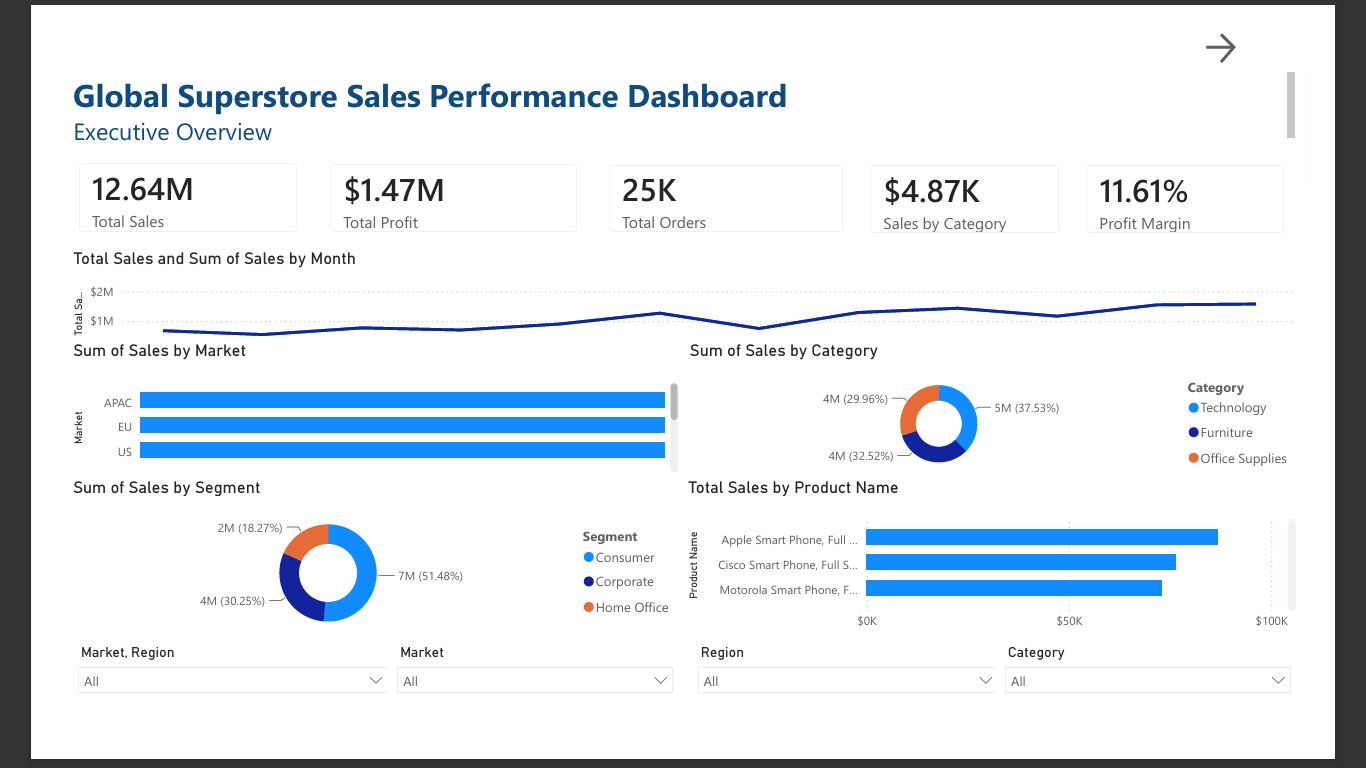

What the dashboard file says about the page in this screenshot:
{"tool":"powerbi","page":{"name":"Executive Dashboard","canvas":[1280,720],"ordinal":0},"visuals":[{"type":"textbox","box":[13.8,39.9,1255.2,81.2],"z":0},{"type":"cardVisual","fields":{"Data":["superstore.Total Sales"]},"box":[8.3,119.7,255.6,104.3],"z":1000},{"type":"slicer","fields":{"Values":["superstore.Market","superstore.Region"]},"box":[13.8,622.1,335.8,97.6],"z":1000,"group":"g3"},{"type":"lineChart","fields":{"Category":["Calendar.Month"],"Y":["superstore.Total Sales","Sum(superstore.Sales)"]},"box":[14.3,224.3,1254.3,94.3],"z":2000},{"type":"hundredPercentStackedBarChart","fields":{"Y":["Sum(superstore.Sales)"],"Category":["superstore.Market"]},"box":[13.8,317.9,626.2,139],"z":2000,"group":"g1"},{"type":"cardVisual","fields":{"Data":["superstore.Total Profit"]},"box":[263.9,121.5,285.5,102.9],"z":3000},{"type":"donutChart","fields":{"Y":["Sum(superstore.Sales)"],"Category":["superstore.Category"]},"box":[641.4,317.9,627.6,139],"z":3000,"group":"g1"},{"type":"slicer","fields":{"Values":["superstore.Market"]},"box":[338.3,622.1,301.6,97.6],"z":3000,"group":"g3"},{"type":"cardVisual","fields":{"Data":["superstore.Total Orders"]},"box":[548.3,121.5,271.3,102.9],"z":4000},{"type":"donutChart","fields":{"Y":["Sum(superstore.Sales)"],"Category":["superstore.Segment"]},"box":[13.8,456.9,626.2,165.2],"z":4000,"group":"g2"},{"type":"group","id":"g1","title":"Group 2","box":[13.8,317.9,1255.2,139],"z":5000},{"type":"slicer","fields":{"Values":["superstore.Region"]},"box":[645.2,622.2,325.8,97.6],"z":5000,"group":"g3"},{"type":"cardVisual","fields":{"Data":["superstore.Sales by Category"]},"box":[814.1,122.2,225.8,102.9],"z":6000},{"type":"clusteredBarChart","fields":{"Category":["superstore.Product Name"],"Y":["superstore.Total Sales"]},"box":[640,456.9,629,165.2],"z":6000,"group":"g2"},{"type":"group","id":"g2","title":"Group 3","box":[13.8,456.9,1255.2,165.2],"z":7000},{"type":"slicer","fields":{"Values":["superstore.Category"]},"box":[957.5,622.2,311.6,97.6],"z":7000,"group":"g3"},{"type":"cardVisual","fields":{"Data":["superstore.Profit Margin"]},"box":[1034.2,122.2,234.3,102.9],"z":8000},{"type":"actionButton","box":[1167.1,0,42.7,39.9],"z":9000},{"type":"group","id":"g3","title":"Group 1","box":[13.8,622.1,1255.2,97.7],"z":10000}]}

Visuals, with their boxes in screenshot pixels (x1, y1, x2, y2), scaled from the page's 1280x720 canvas onto the 1366x768 screenshot:
textbox: rect(15, 43, 1354, 129)
cardVisual - superstore.Total Sales: rect(9, 128, 282, 239)
slicer - superstore.Market x superstore.Region: rect(15, 664, 373, 767)
lineChart - Calendar.Month x superstore.Total Sales: rect(15, 239, 1354, 340)
hundredPercentStackedBarChart - Sum(superstore.Sales) x superstore.Market: rect(15, 339, 683, 487)
cardVisual - superstore.Total Profit: rect(282, 130, 586, 239)
donutChart - Sum(superstore.Sales) x superstore.Category: rect(684, 339, 1354, 487)
slicer - superstore.Market: rect(361, 664, 683, 767)
cardVisual - superstore.Total Orders: rect(585, 130, 875, 239)
donutChart - Sum(superstore.Sales) x superstore.Segment: rect(15, 487, 683, 664)
"Group 2" group: rect(15, 339, 1354, 487)
slicer - superstore.Region: rect(689, 664, 1036, 767)
cardVisual - superstore.Sales by Category: rect(869, 130, 1110, 240)
clusteredBarChart - superstore.Product Name x superstore.Total Sales: rect(683, 487, 1354, 664)
"Group 3" group: rect(15, 487, 1354, 664)
slicer - superstore.Category: rect(1022, 664, 1354, 767)
cardVisual - superstore.Profit Margin: rect(1104, 130, 1354, 240)
actionButton: rect(1246, 0, 1291, 43)
"Group 1" group: rect(15, 664, 1354, 767)
